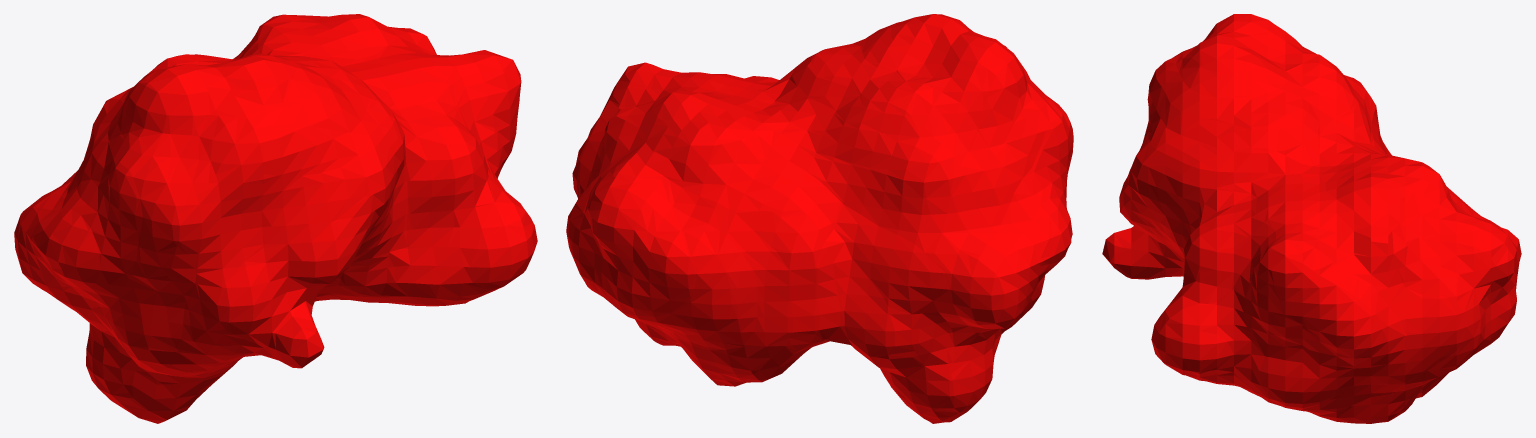
Rendered from Beta_1_3_glucuronyltransferase_coarse.dae.
The picture shows the model from 3 angles, left to right: view 1: azimuth 30°, elevation 25°; view 2: azimuth 150°, elevation 25°; view 3: azimuth 270°, elevation 25°; orthographic projection. The views are drawn at different scales.
Visible parts, largest first — view 1: Beta_1_3_glucuronyltransferase; view 2: Beta_1_3_glucuronyltransferase; view 3: Beta_1_3_glucuronyltransferase.
Boxes of the visible parts, box(x1,y1,x2,y2) form: Beta_1_3_glucuronyltransferase: box(14, 14, 537, 423); Beta_1_3_glucuronyltransferase: box(566, 14, 1073, 423); Beta_1_3_glucuronyltransferase: box(1102, 14, 1521, 423).
Bounding box in the file's own units: 77.83 × 59.07 × 65.45.
